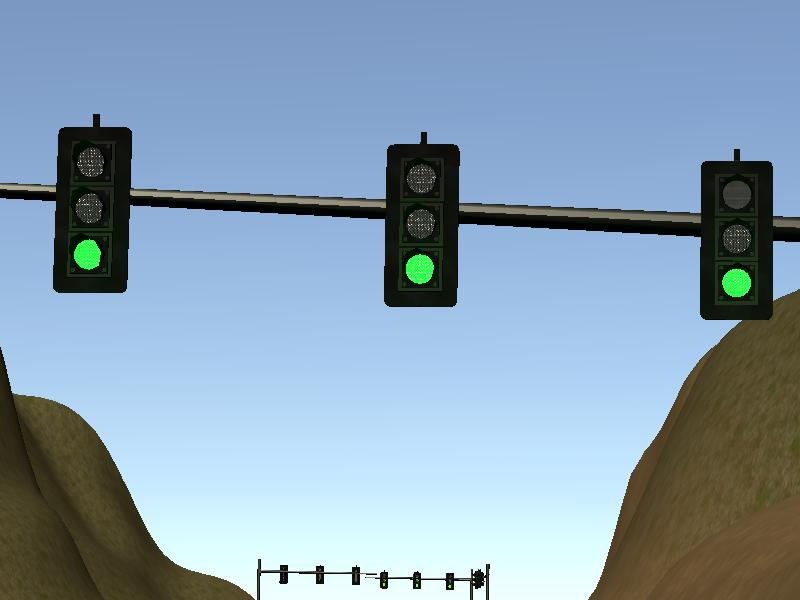green_light: (58, 128, 126, 291), (703, 162, 771, 319), (390, 145, 456, 304)
